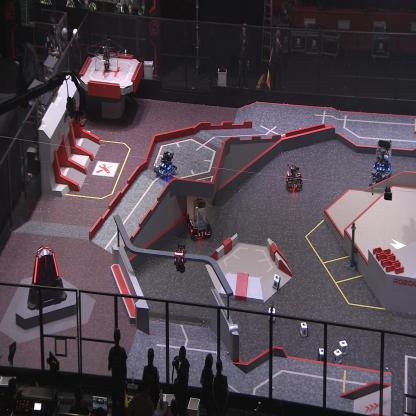car: (187, 197, 213, 241), (372, 138, 393, 178), (152, 150, 178, 180), (285, 162, 303, 192), (368, 171, 384, 195)
